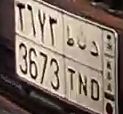3: (48, 15, 61, 92), (16, 2, 28, 75)
6: (27, 3, 39, 80)
7: (38, 9, 49, 85)
D: (90, 39, 101, 103)
N: (77, 31, 88, 97)
T: (66, 24, 75, 91)
